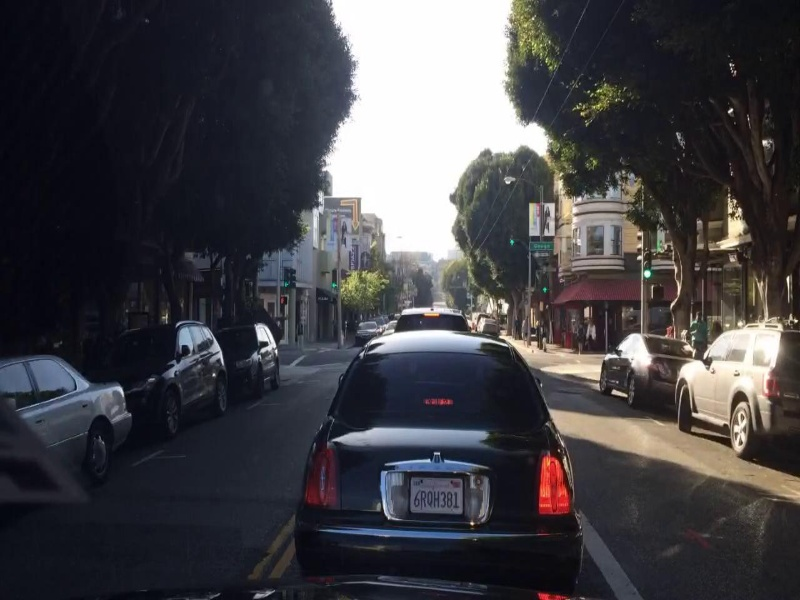car: (285, 320, 588, 592), (5, 351, 124, 515), (680, 320, 795, 468), (140, 308, 231, 453), (597, 305, 675, 421), (231, 309, 286, 406)
